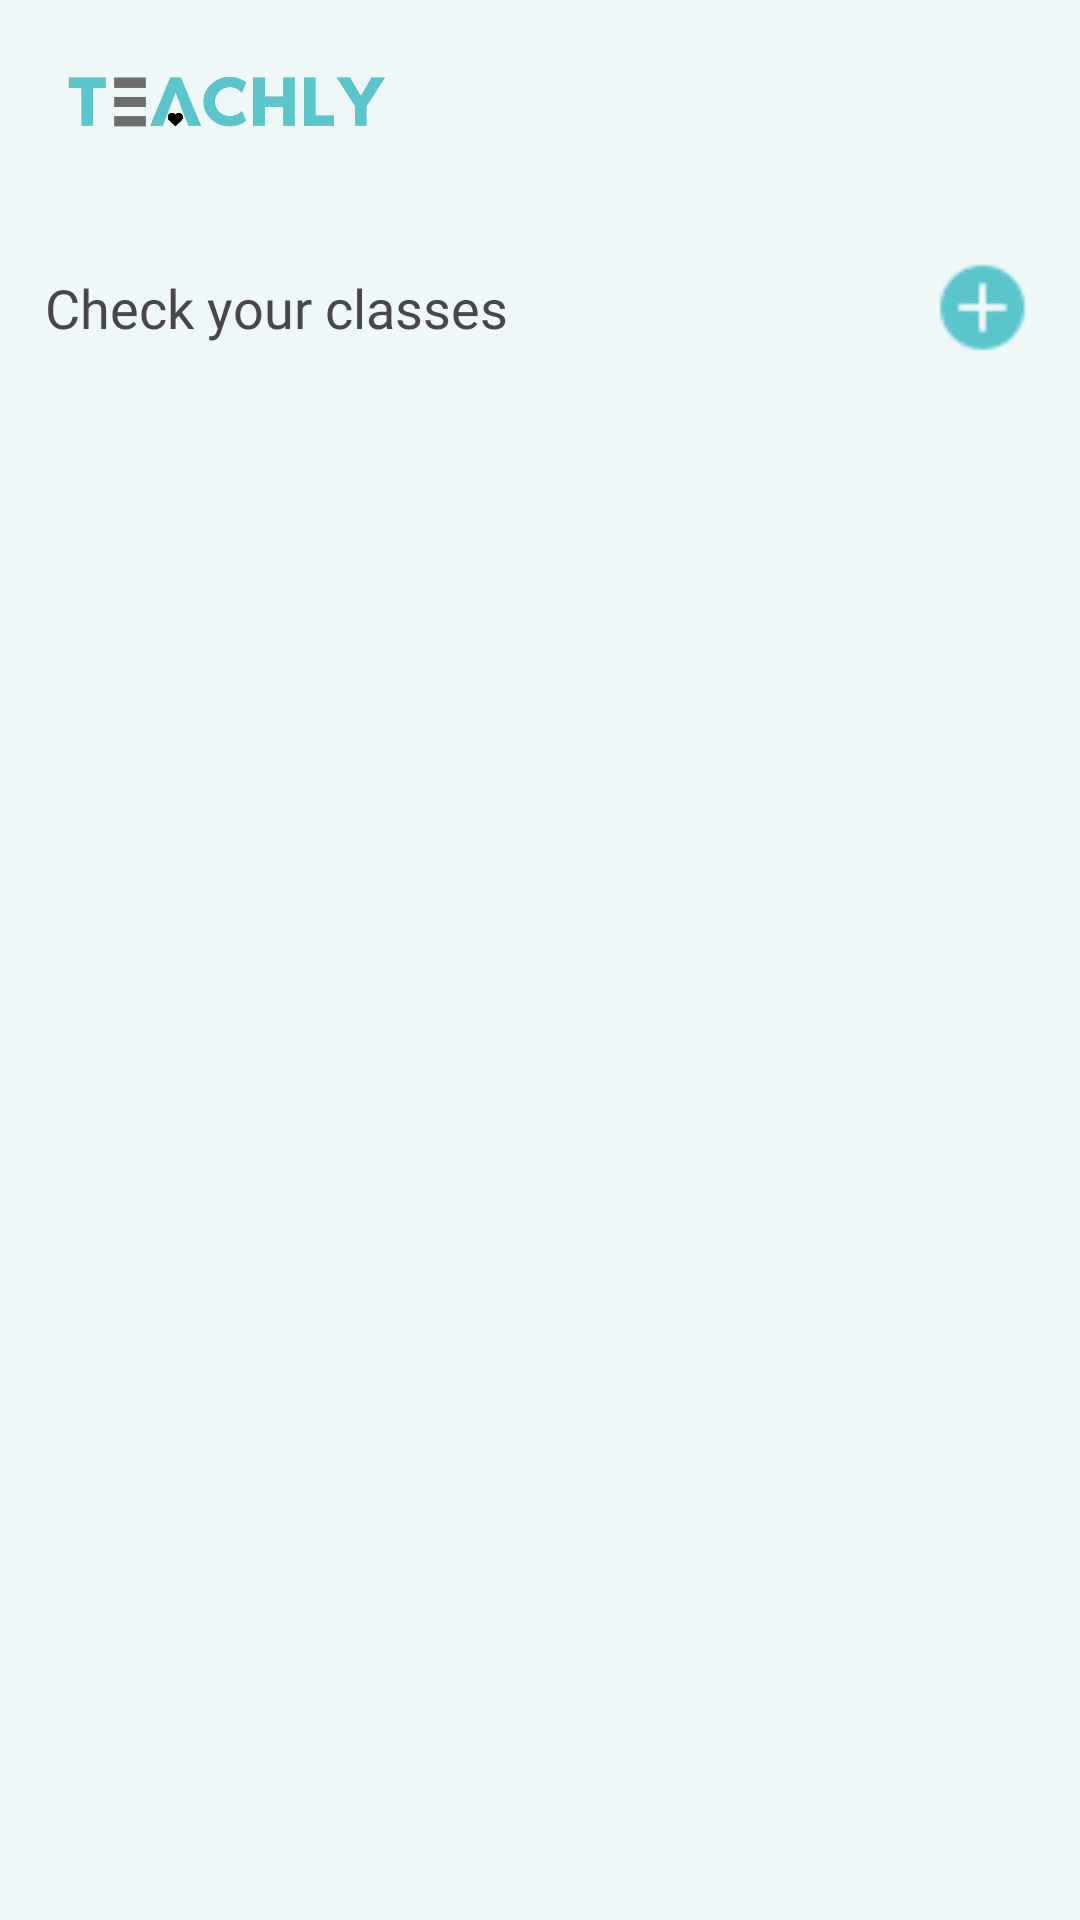

Screen size 1080x1920. Icon name, then its center in pixels as (x,y):
plus: (982,307)
